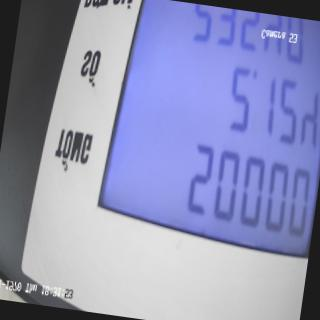screen: (87, 0, 320, 262)
